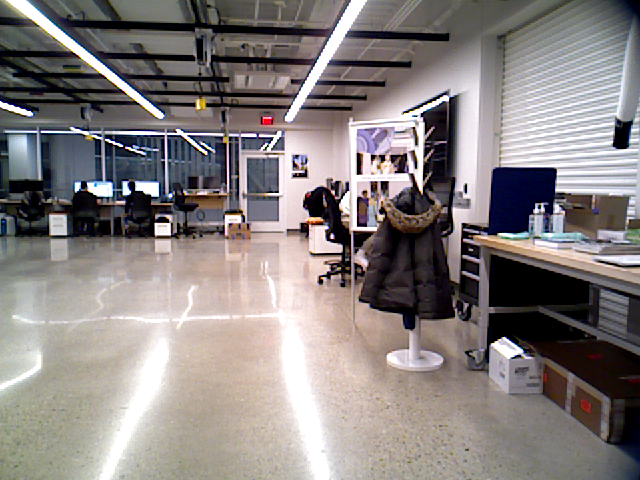painting3: (292, 154, 310, 180)
